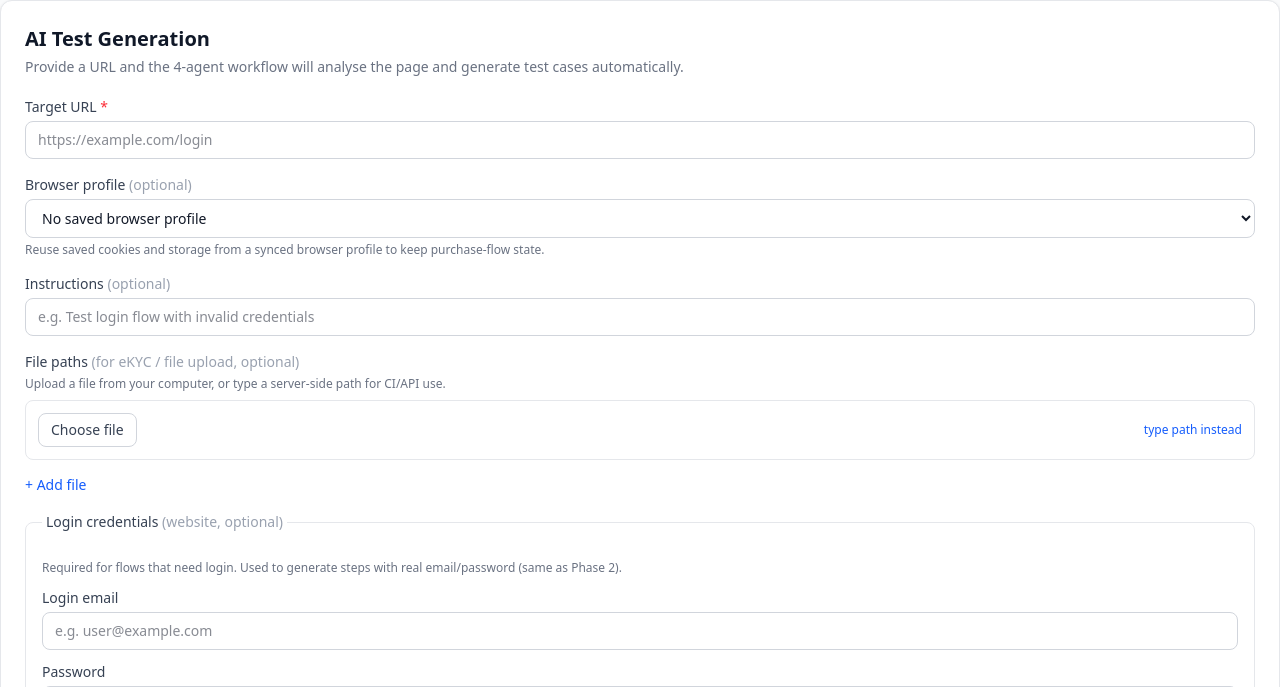
Test case: AgentWorkflowTrigger › clicking "type path instead" toggle shows text input
The image size is (1280, 687).
Click the button with test id "file-path-toggle-0".
click(1193, 430)  # box [1144,422,1242,438]
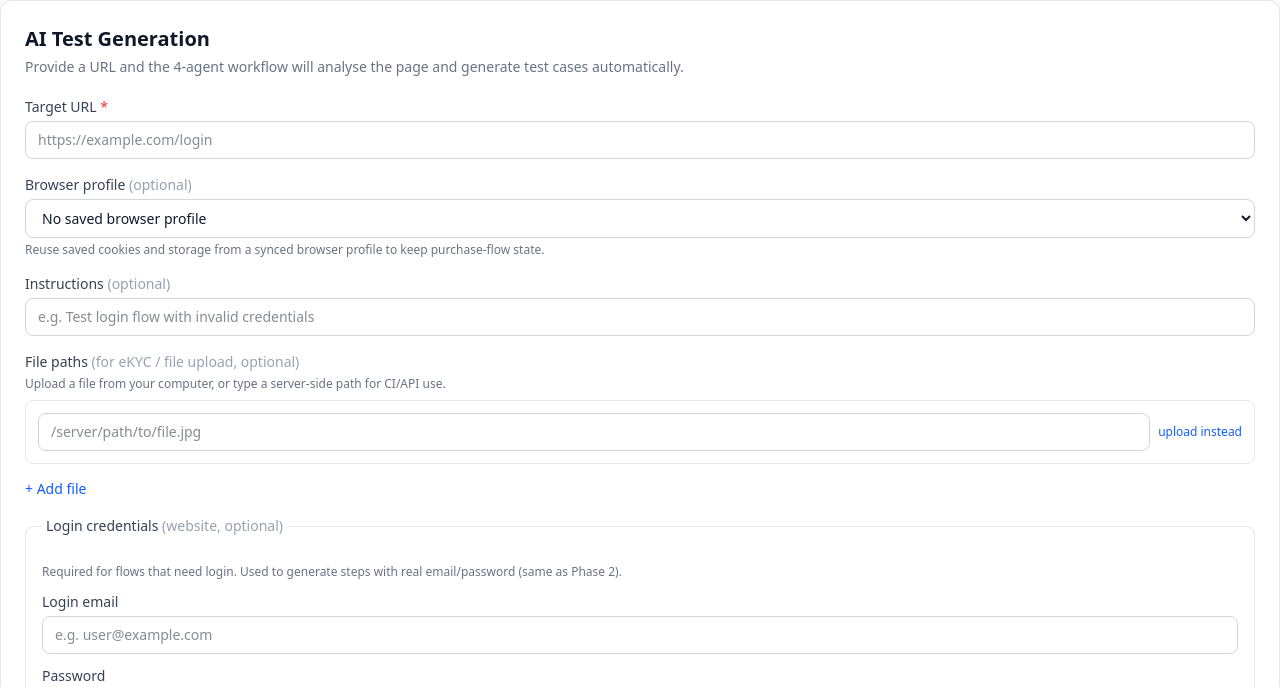
Check: the field with test id "file-path-input-0" is shown, box [38,413,1150,451]
